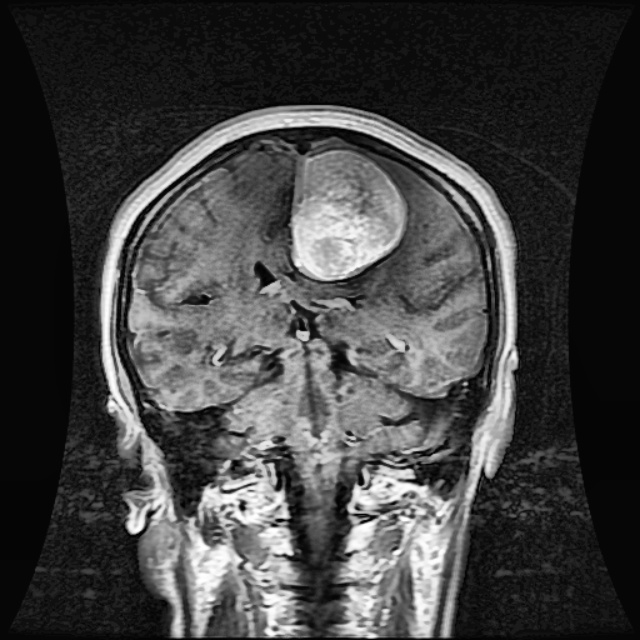Glioma: (292, 148, 407, 282)
